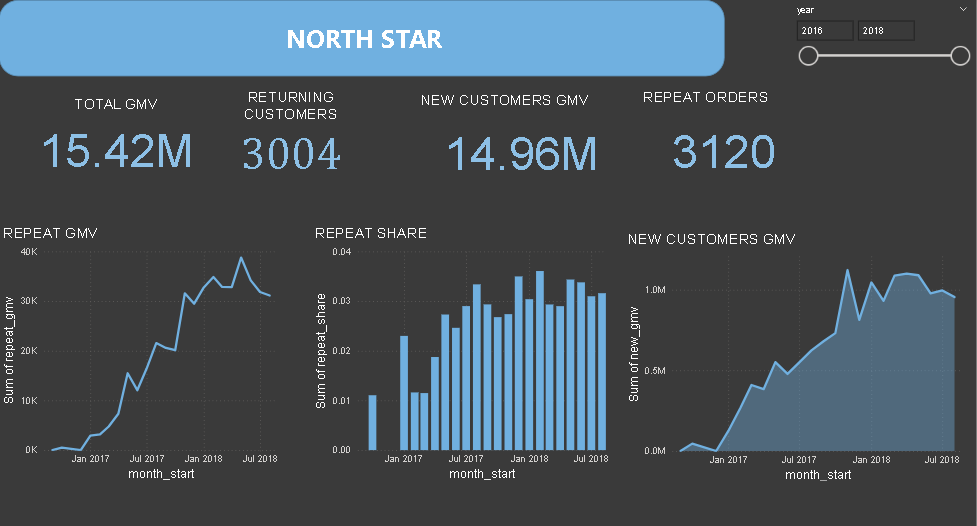

Layout of this report page (visuals, bound fields, positions):
{"tool":"powerbi","page":{"name":"Page 1","canvas":[1280,720],"ordinal":0},"visuals":[{"type":"lineChart","title":"REPEAT GMV ","fields":{"Category":["mart mart_monthly_repeat_gmv.month_start.Variation.Date Hierarchy.Year"],"Y":["Sum(mart mart_monthly_repeat_gmv.repeat_gmv)"]},"box":[0,301.7,383.3,340],"z":0},{"type":"columnChart","title":"REPEAT SHARE","fields":{"Category":["mart mart_monthly_repeat_gmv.month_start.Variation.Date Hierarchy.Year"],"Y":["Sum(mart mart_monthly_repeat_gmv.repeat_share)"]},"box":[408.3,301.7,410,340],"z":1000},{"type":"areaChart","title":"NEW CUSTOMERS GMV","fields":{"Category":["mart mart_monthly_repeat_gmv.month_start"],"Y":["Sum(mart mart_monthly_repeat_gmv.new_gmv)"]},"box":[818.3,308.3,461.7,333.3],"z":2000},{"type":"card","title":"TOTAL GMV","fields":{"Values":["Sum(mart mart_monthly_repeat_gmv.total_gmv)"]},"box":[25.7,132.9,254.3,115.7],"z":3000},{"type":"card","title":"NEW CUSTOMERS GMV","fields":{"Values":["Sum(mart mart_monthly_repeat_gmv.new_gmv)"]},"box":[546.7,126.7,271.7,131.7],"z":4000},{"type":"card","title":"RETURNING CUSTOMERS","fields":{"Values":["Sum(mart mart_monthly_repeat_gmv.returning_customers)"]},"box":[270,123.3,225,115],"z":5000},{"type":"card","title":"REPEAT ORDERS","fields":{"Values":["Sum(mart mart_monthly_repeat_gmv.orders_repeat)"]},"box":[838.3,123.3,223.3,135],"z":6000},{"type":"slicer","fields":{"Values":["dim_month.year"]},"box":[1031.7,8.3,248.3,125],"z":7000},{"type":"shape","box":[0,8.3,950,100],"z":8000}]}

Visuals, with their boxes on the page's 1280x720 design canvas (x1, y1, x2, y2). These are canvas units, not pixel positions in the 977x526 screenshot, which may show the page scaled, cropped or inside an application window:
"REPEAT GMV " lineChart: box(0, 302, 383, 642)
"REPEAT SHARE" columnChart: box(408, 302, 818, 642)
"NEW CUSTOMERS GMV" areaChart: box(818, 308, 1280, 642)
"TOTAL GMV" card: box(26, 133, 280, 249)
"NEW CUSTOMERS GMV" card: box(547, 127, 818, 258)
"RETURNING CUSTOMERS" card: box(270, 123, 495, 238)
"REPEAT ORDERS" card: box(838, 123, 1062, 258)
slicer - dim_month.year: box(1032, 8, 1280, 133)
shape: box(0, 8, 950, 108)
